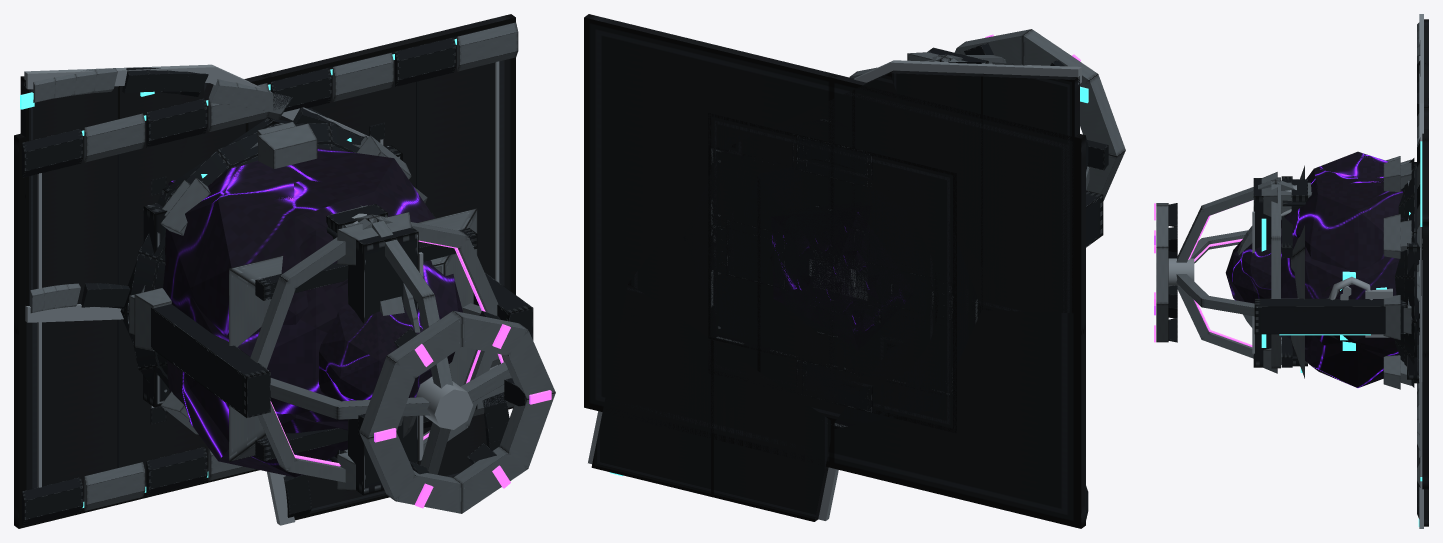
File: world-low.glb
3 renders of one model, left to right at view 1: azimuth 30°, elevation 25°; view 2: azimuth 150°, elevation 25°; view 3: azimuth 270°, elevation 25°, orthographic. The views are drawn at different scales.
Parts seen in each view (by area): view 1: track-straight-root.001 / Quiet graphite road.001, track-bend-root.001 / Quiet graphite road.001, reactor-root.001 / Brushed pale alloy.001, ore-captured-root.001 / Veined natural slate.001, reactor-root.001 / Ceramic graphite.001, track-straight-root.001 / Ceramic graphite.001, track-straight-root.001 / Brushed pale alloy.001, ore-medium-root.001 / Veined natural slate.001, Gimbal bearing.005 / Brushed pale alloy.001, pit-station-root.001 / Brushed pale alloy.001, Suspended mineral core.001 / Violet crystal.001, gantry-root.001 / Ceramic graphite.001 (+16 smaller); view 2: track-straight-root.001 / Quiet graphite road.001, track-bend-root.001 / Quiet graphite road.001, floor-tile-root.001 / Quiet graphite road.001, deposit-root.001 / Ceramic graphite.001, dock-root.001 / Quiet graphite road.001, reactor-root.001 / Ceramic graphite.001, pit-station-root.001 / Ceramic graphite.001, reactor-root.001 / Brushed pale alloy.001, drop-capsule-root.001 / Ceramic graphite.001, ore-large-root.001 / Veined natural slate.001, track-bend-root.001 / Titanium edges.001, finish-arch-root.001 / Ceramic graphite.001 (+13 smaller); view 3: ore-medium-root.001 / Veined natural slate.001, reactor-root.001 / Ceramic graphite.001, reactor-root.001 / Brushed pale alloy.001, ore-large-root.001 / Veined natural slate.001, Gimbal bearing.003 / Brushed pale alloy.001, track-straight-root.001 / Quiet graphite road.001, Suspended mineral core.001 / Violet crystal.001, ore-captured-root.001 / Veined natural slate.001, Gimbal bearing.004 / Brushed pale alloy.001, pit-station-root.001 / Ceramic graphite.001, Gimbal bearing.005 / Brushed pale alloy.001, track-bend-root.001 / Titanium edges.001 (+14 smaller).
Boxes of the visible parts, bbox=[...] form: track-straight-root.001 / Quiet graphite road.001: bbox=[14, 14, 515, 528]; track-bend-root.001 / Quiet graphite road.001: bbox=[20, 76, 486, 520]; reactor-root.001 / Brushed pale alloy.001: bbox=[129, 121, 555, 513]; ore-captured-root.001 / Veined natural slate.001: bbox=[163, 160, 371, 477]; reactor-root.001 / Ceramic graphite.001: bbox=[120, 118, 533, 474]; track-straight-root.001 / Ceramic graphite.001: bbox=[22, 37, 456, 526]; track-straight-root.001 / Brushed pale alloy.001: bbox=[84, 22, 518, 511]; ore-medium-root.001 / Veined natural slate.001: bbox=[172, 147, 434, 475]; Gimbal bearing.005 / Brushed pale alloy.001: bbox=[250, 214, 498, 482]; pit-station-root.001 / Brushed pale alloy.001: bbox=[229, 208, 477, 461]; Suspended mineral core.001 / Violet crystal.001: bbox=[319, 304, 431, 401]; gantry-root.001 / Ceramic graphite.001: bbox=[326, 227, 418, 495]; track-straight-root.001 / Quiet graphite road.001: bbox=[584, 14, 1085, 528]; track-bend-root.001 / Quiet graphite road.001: bbox=[591, 70, 1079, 521]; floor-tile-root.001 / Quiet graphite road.001: bbox=[708, 113, 956, 432]; deposit-root.001 / Ceramic graphite.001: bbox=[729, 159, 935, 382]; dock-root.001 / Quiet graphite road.001: bbox=[726, 159, 938, 387]; reactor-root.001 / Ceramic graphite.001: bbox=[684, 43, 1108, 428]; pit-station-root.001 / Ceramic graphite.001: bbox=[708, 145, 955, 398]; reactor-root.001 / Brushed pale alloy.001: bbox=[954, 29, 1125, 200]; drop-capsule-root.001 / Ceramic graphite.001: bbox=[771, 205, 867, 334]; ore-large-root.001 / Veined natural slate.001: bbox=[771, 211, 901, 346]; track-bend-root.001 / Titanium edges.001: bbox=[588, 60, 1081, 520]; finish-arch-root.001 / Ceramic graphite.001: bbox=[796, 135, 868, 410]; ore-medium-root.001 / Veined natural slate.001: bbox=[1281, 153, 1403, 387]; reactor-root.001 / Ceramic graphite.001: bbox=[1168, 158, 1419, 387]; reactor-root.001 / Brushed pale alloy.001: bbox=[1156, 156, 1412, 389]; ore-large-root.001 / Veined natural slate.001: bbox=[1281, 224, 1397, 353]; Gimbal bearing.003 / Brushed pale alloy.001: bbox=[1176, 178, 1294, 364]; track-straight-root.001 / Quiet graphite road.001: bbox=[1422, 129, 1428, 489]; Suspended mineral core.001 / Violet crystal.001: bbox=[1225, 239, 1271, 303]; ore-captured-root.001 / Veined natural slate.001: bbox=[1306, 151, 1390, 202]; Gimbal bearing.004 / Brushed pale alloy.001: bbox=[1176, 230, 1254, 316]; pit-station-root.001 / Ceramic graphite.001: bbox=[1281, 176, 1422, 379]; Gimbal bearing.005 / Brushed pale alloy.001: bbox=[1271, 177, 1280, 368]; track-bend-root.001 / Titanium edges.001: bbox=[1419, 14, 1423, 528].
Size of the model in its own units: 4 by 4 by 2.8.
12 materials, 5 textured.
